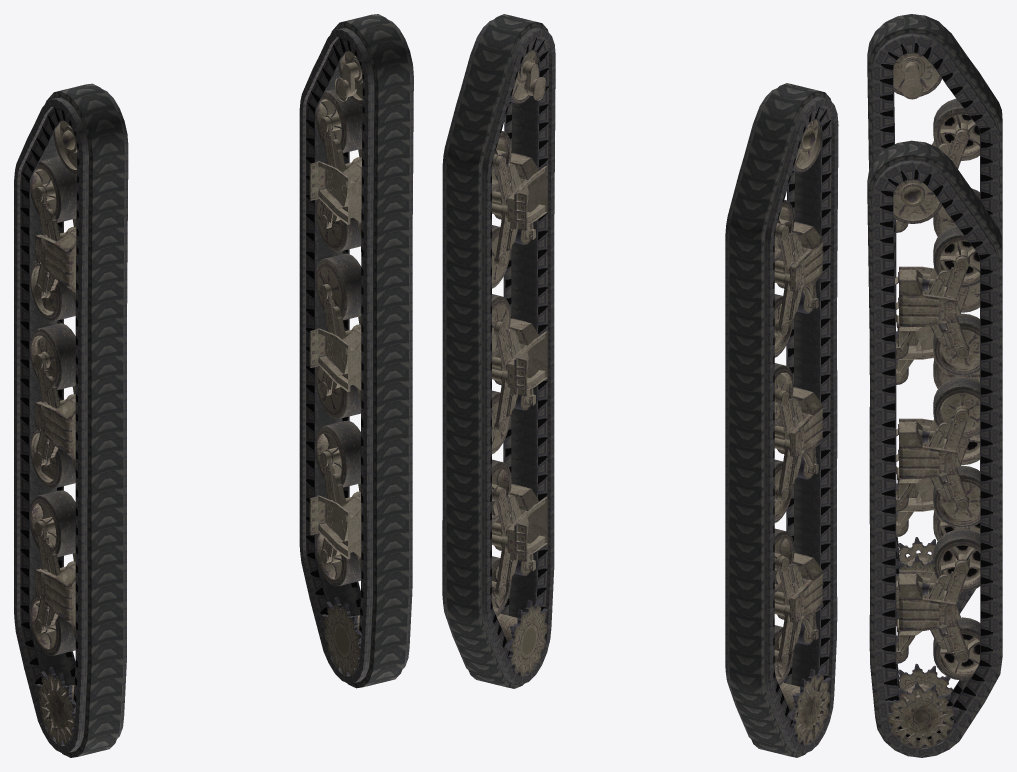
File: Chassis.glb
The picture shows the model from 3 angles, left to right: view 1: azimuth 30°, elevation 25°; view 2: azimuth 150°, elevation 25°; view 3: azimuth 270°, elevation 25°; orthographic projection. The views are drawn at different scales.
Visible parts, largest first — view 1: set_0_group_0, set_1_group_0, set_3_group_0, set_2_group_0; view 2: set_0_group_0, set_1_group_0, set_3_group_0, set_2_group_0; view 3: set_1_group_0, set_3_group_0, set_0_group_0, set_2_group_0.
Boxes of the visible parts, x1,y1,x2,y2 form: set_0_group_0: [14, 83, 128, 757]; set_1_group_0: [299, 14, 413, 688]; set_3_group_0: [309, 51, 362, 675]; set_2_group_0: [30, 120, 77, 745]; set_0_group_0: [725, 83, 838, 757]; set_1_group_0: [442, 14, 555, 688]; set_3_group_0: [492, 50, 547, 676]; set_2_group_0: [774, 119, 830, 746]; set_1_group_0: [867, 140, 1002, 757]; set_3_group_0: [886, 180, 980, 749]; set_0_group_0: [867, 14, 1002, 630]; set_2_group_0: [893, 53, 980, 613].
Bounding box in the file's own units: 3.05 × 5.77 × 1.17.
4 materials, 4 textured.
